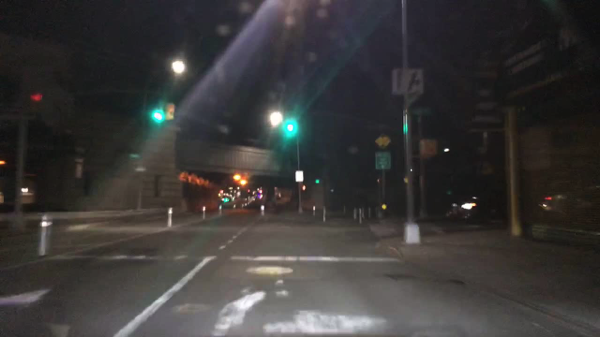car: (0, 159, 38, 212), (446, 195, 496, 222)
traffic light: (418, 140, 438, 156), (152, 104, 164, 122), (165, 102, 174, 122), (286, 119, 294, 135)
traffic sign: (391, 68, 424, 95), (374, 150, 391, 171), (409, 105, 434, 118), (375, 134, 391, 149), (295, 173, 304, 182)
